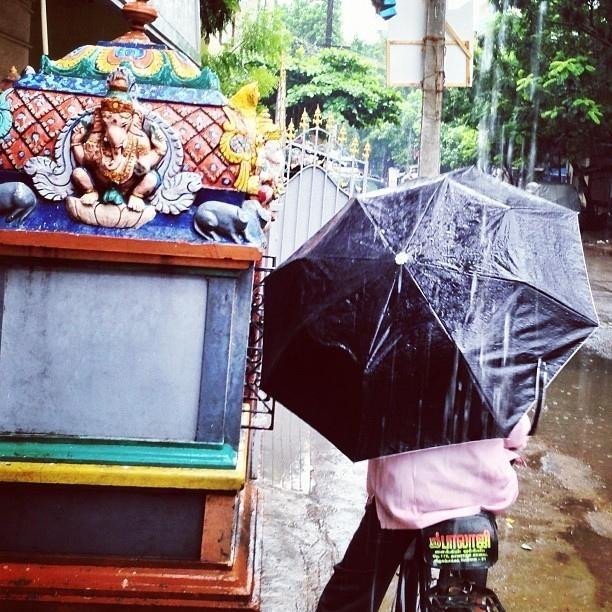bicycle: (414, 514, 503, 604), (396, 551, 506, 612)
